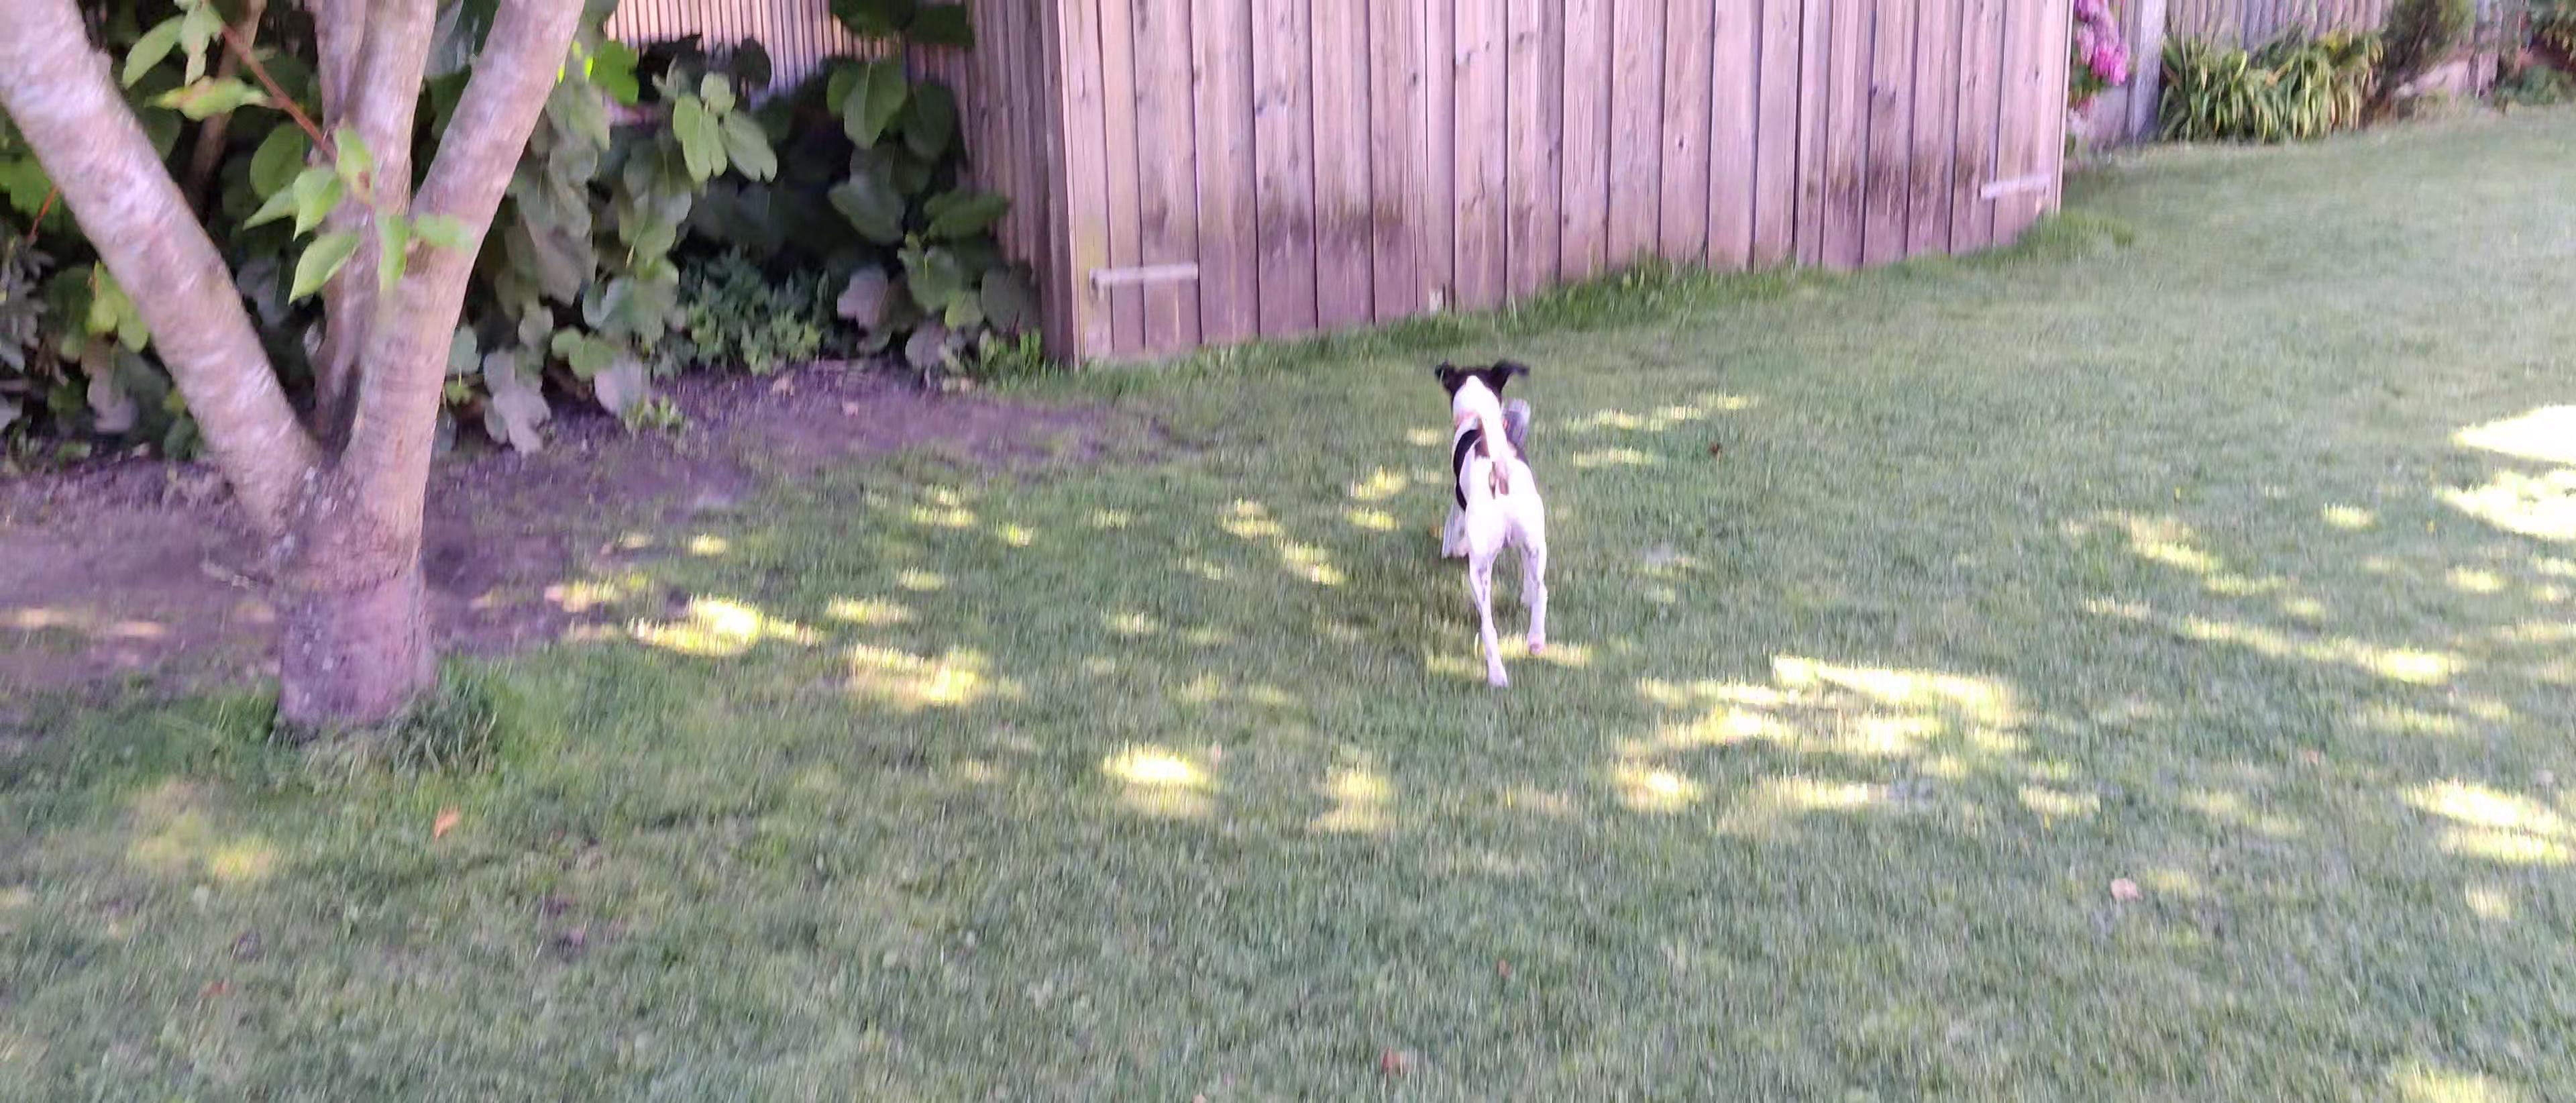Dog: (1428, 353, 1557, 692)
